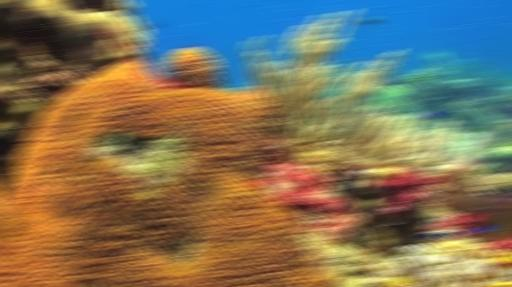Fish: (423, 110, 444, 119), (419, 231, 442, 239), (359, 17, 380, 24), (473, 226, 494, 233), (440, 231, 457, 239), (429, 56, 446, 64), (146, 24, 159, 29)
